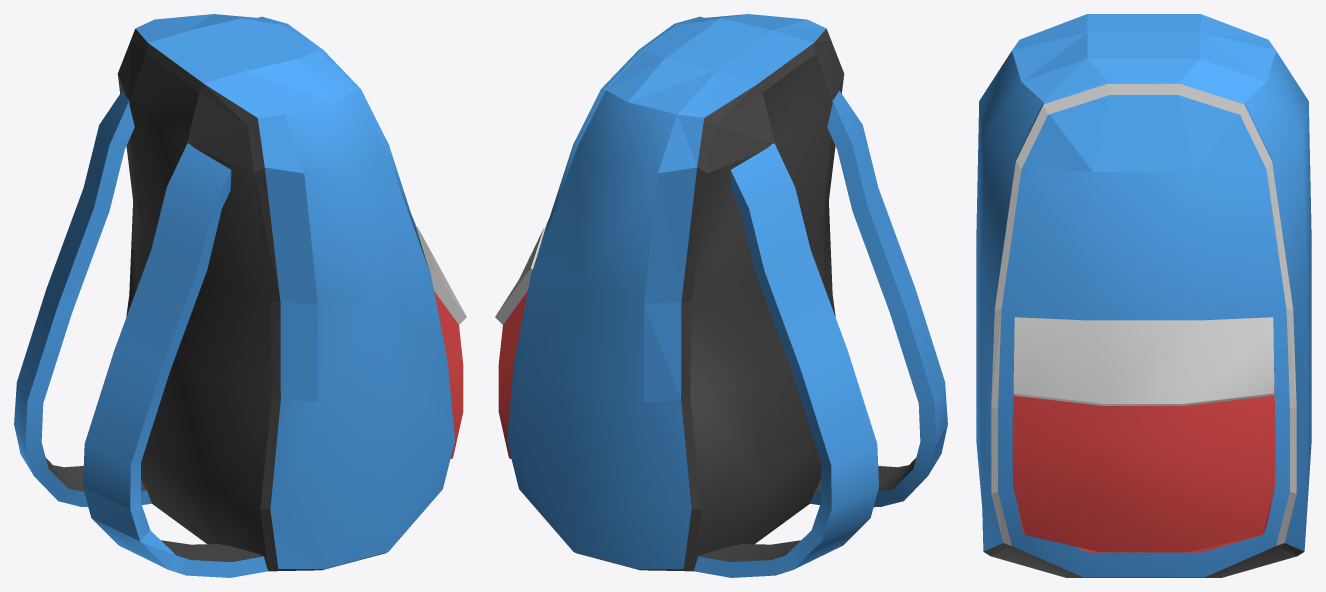
Rendered from Backpack.fbx.
3 views of the same model, side by side, from view 1: azimuth 30°, elevation 25°; view 2: azimuth 150°, elevation 25°; view 3: azimuth 270°, elevation 25° (orthographic).
Visible parts, largest first — view 1: Bag; view 2: Bag; view 3: Bag.
Part boxes in pixels (x1,y1,x2,y2): Bag: (14, 14, 466, 577); Bag: (495, 14, 947, 577); Bag: (976, 14, 1311, 577).
Bounding box in the file's own units: 79.38 × 101 × 61.41.
